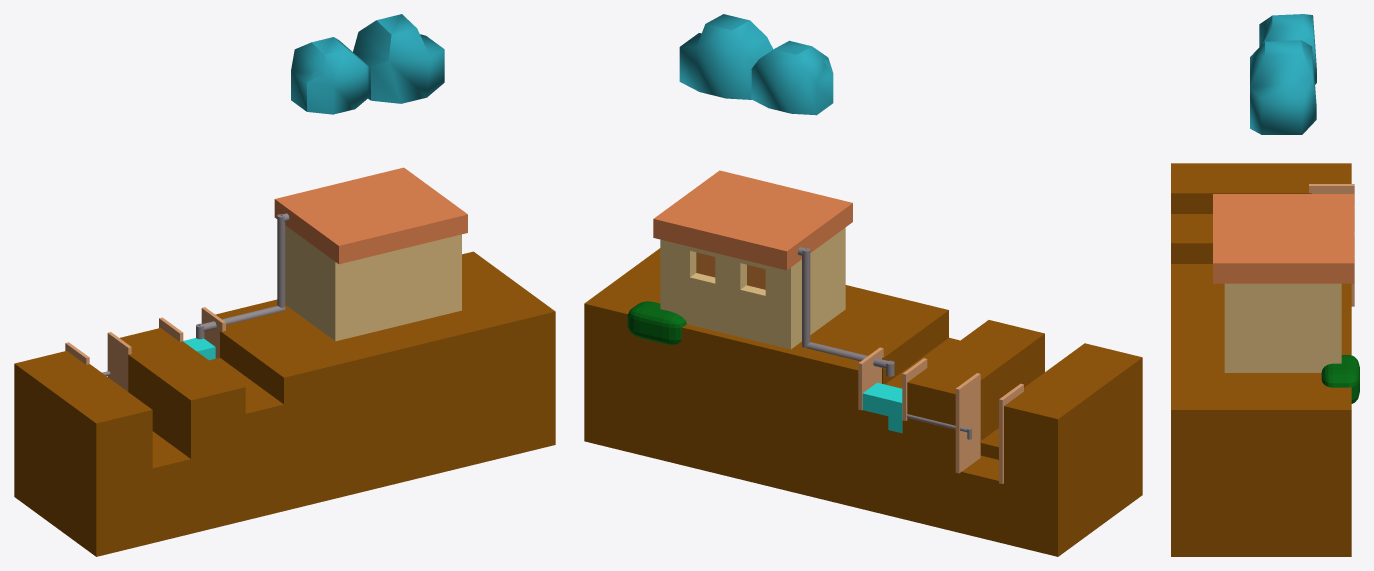
The model's file is house of rain.gltf.
3 views of the same model, side by side, from view 1: azimuth 30°, elevation 25°; view 2: azimuth 150°, elevation 25°; view 3: azimuth 270°, elevation 25° (orthographic). The views are drawn at different scales.
Parts seen in each view (by area): view 1: Cube, Cube.005, Cube.006, Cloud1, Cylinder.004, Cube.004, Cube.001; view 2: Cube, Cube.005, Cube.006, Cloud1, Cube.004, Grass, Cylinder.004, Cube.001, Cube.007, Plane.001; view 3: Cube, Cube.006, Cube.005, Cloud1, Grass, Cube.004.
Part boxes in pixels (bbox=[...]): Cube: bbox=[14, 251, 555, 556]; Cube.005: bbox=[285, 225, 461, 341]; Cube.006: bbox=[274, 167, 467, 264]; Cloud1: bbox=[291, 14, 444, 114]; Cylinder.004: bbox=[196, 213, 289, 339]; Cube.004: bbox=[65, 332, 131, 391]; Cube.001: bbox=[159, 307, 225, 358]; Cube: bbox=[584, 248, 1142, 556]; Cube.005: bbox=[660, 227, 845, 349]; Cube.006: bbox=[653, 170, 852, 270]; Cloud1: bbox=[679, 14, 833, 115]; Cube.004: bbox=[955, 373, 1023, 483]; Grass: bbox=[627, 301, 686, 344]; Cylinder.004: bbox=[797, 247, 894, 376]; Cube.001: bbox=[858, 347, 927, 420]; Cube.007: bbox=[862, 382, 902, 419]; Plane.001: bbox=[696, 252, 765, 289]; Cube: bbox=[1171, 163, 1351, 556]; Cube.006: bbox=[1213, 194, 1354, 283]; Cube.005: bbox=[1224, 283, 1341, 372]; Cloud1: bbox=[1250, 14, 1316, 134]; Grass: bbox=[1321, 355, 1359, 403]; Cube.004: bbox=[1309, 184, 1354, 231].
Bounding box in the file's own units: 5.54 × 4.74 × 1.79.
